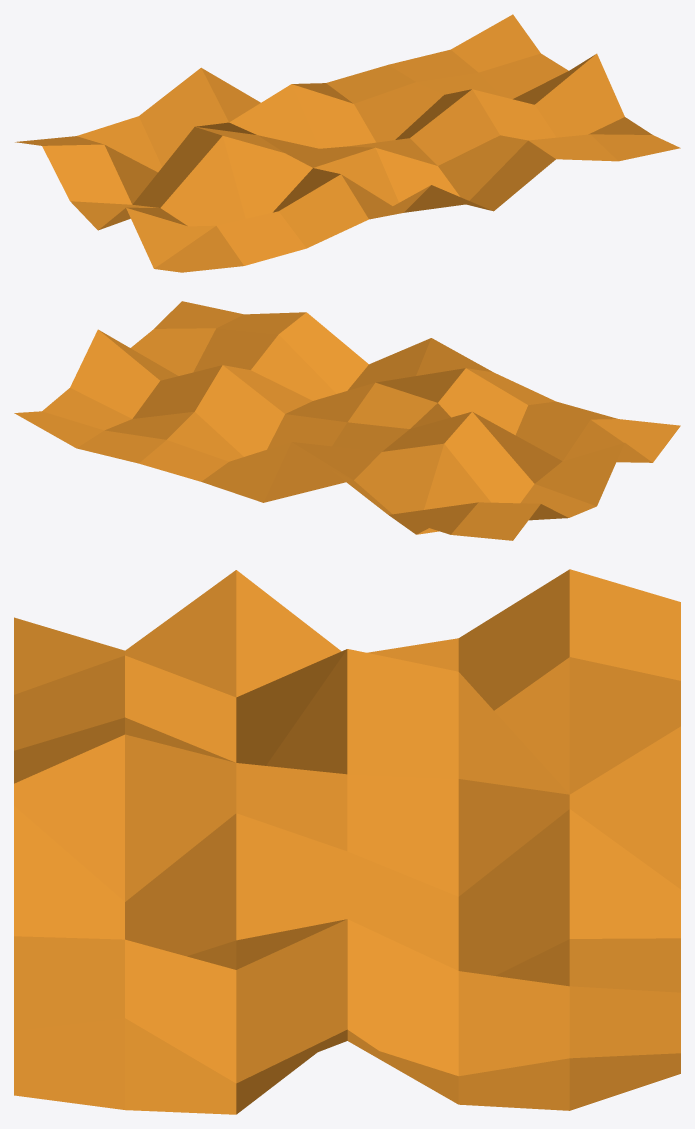
File: Gold Inside Chest.fbx
The picture shows the model from 3 angles, top to bottom: view 1: azimuth 30°, elevation 25°; view 2: azimuth 150°, elevation 25°; view 3: azimuth 270°, elevation 25°; orthographic projection. The views are drawn at different scales.
Parts seen in each view (by area): view 1: Gold Inside; view 2: Gold Inside; view 3: Gold Inside.
Boxes of the visible parts, left/top/right/bottom form: Gold Inside: left=15, top=14, right=680, bottom=272; Gold Inside: left=14, top=301, right=680, bottom=540; Gold Inside: left=14, top=569, right=680, bottom=1114.
Size of the model in its own units: 58.91 by 34.33 by 9.3.
